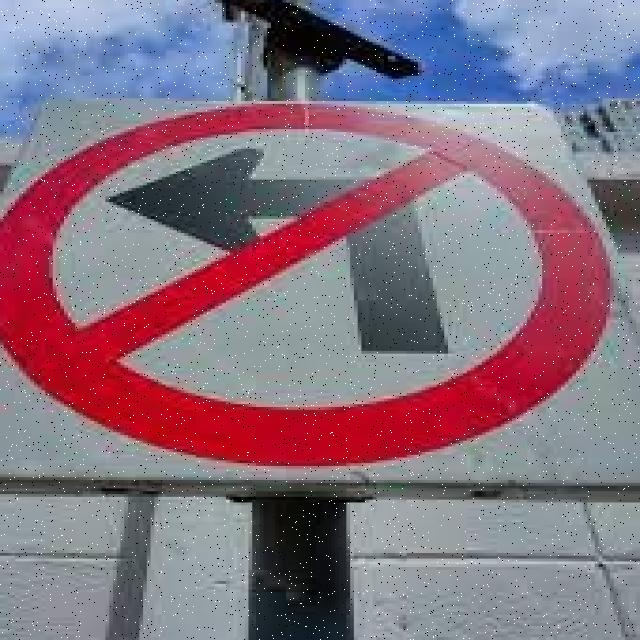do_not_turn_right: (0, 95, 618, 468)
